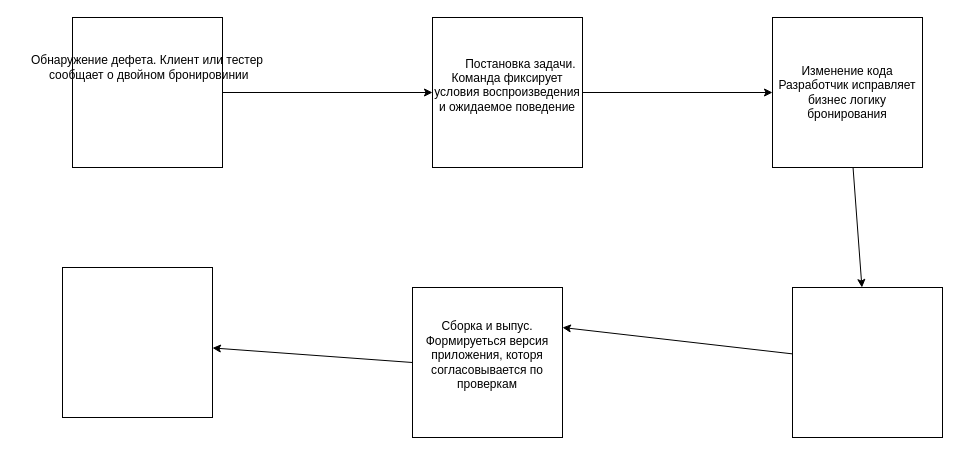
This 960x455 diagram has some shape labels left out. Each missing label, with the centre of its shape:
"Проверка. Запуск тестов. Включая конкруирующие запросы и пересекающиеся даты" goes at (867,362).
"Эксплуатация. Сервис запускаеться, проверяються ошибки и доступность" goes at (137,342).
